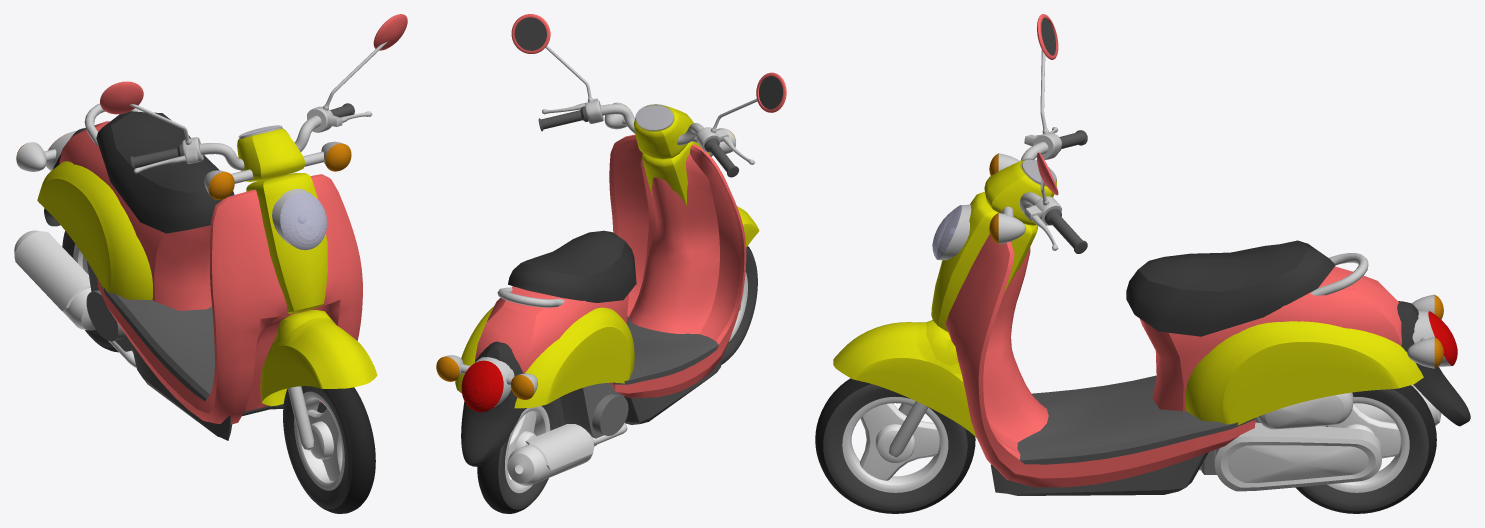
File: Scooter-normals.obj
3 views of the same model, side by side, from view 1: azimuth 30°, elevation 25°; view 2: azimuth 150°, elevation 25°; view 3: azimuth 270°, elevation 25° (orthographic). The views are drawn at different scales.
Parts seen in each view (by area): view 1: PassengerGuardFront, Seat, FenderRear_backface, FenderFront_backface, HoodRear, PassengerGuardBottom, ColumnFront, ExhaustGuard, TireTreadFront, RimFront, TireRubberFront, InstrumentMount (+15 smaller); view 2: PassengerGuardFront, FenderRear_backface, Seat, HoodRear, Circle_backface, PassengerGuardBottom, ExhaustGuard, TaillightGlas, InstrumentMount, Exhaust_backface, EngineI, MirrorsGlass (+19 smaller); view 3: PassengerGuardFront, FenderRear_backface, Seat, PassengerGuardBottom, Drive, HoodRear, FenderFront_backface, RimFront, TireRubberFront, TireRubberRear, ColumnFront, Tank (+16 smaller).
Boxes of the visible parts, bbox=[...] form: PassengerGuardFront: bbox=[97, 174, 362, 424]; Seat: bbox=[96, 111, 234, 233]; FenderRear_backface: bbox=[37, 161, 153, 299]; FenderFront_backface: bbox=[260, 310, 377, 406]; HoodRear: bbox=[59, 121, 211, 310]; PassengerGuardBottom: bbox=[98, 280, 214, 400]; ColumnFront: bbox=[246, 173, 327, 313]; ExhaustGuard: bbox=[14, 231, 90, 311]; TireTreadFront: bbox=[316, 387, 375, 513]; RimFront: bbox=[294, 391, 344, 490]; TireRubberFront: bbox=[283, 386, 351, 509]; InstrumentMount: bbox=[237, 128, 305, 181]; PassengerGuardFront: bbox=[609, 134, 746, 397]; FenderRear_backface: bbox=[455, 306, 634, 408]; Seat: bbox=[508, 230, 636, 302]; HoodRear: bbox=[475, 286, 629, 373]; Circle_backface: bbox=[461, 341, 523, 466]; PassengerGuardBottom: bbox=[614, 316, 718, 384]; ExhaustGuard: bbox=[525, 424, 594, 470]; TaillightGlas: bbox=[461, 360, 503, 412]; InstrumentMount: bbox=[633, 104, 693, 159]; Exhaust_backface: bbox=[507, 432, 593, 485]; EngineI: bbox=[560, 382, 628, 438]; MirrorsGlass: bbox=[514, 17, 782, 109]; PassengerGuardFront: bbox=[945, 234, 1255, 487]; FenderRear_backface: bbox=[1185, 321, 1423, 425]; Seat: bbox=[1126, 240, 1335, 336]; PassengerGuardBottom: bbox=[1017, 375, 1255, 464]; Drive: bbox=[1214, 422, 1381, 491]; HoodRear: bbox=[1139, 266, 1401, 411]; FenderFront_backface: bbox=[833, 320, 976, 437]; RimFront: bbox=[842, 397, 948, 492]; TireRubberFront: bbox=[823, 384, 967, 511]; TireRubberRear: bbox=[1301, 389, 1428, 511]; ColumnFront: bbox=[931, 191, 1037, 331]; Tank: bbox=[990, 452, 1208, 495].
Size of the model in its own units: 0.624 by 0.7952 by 1.11.
